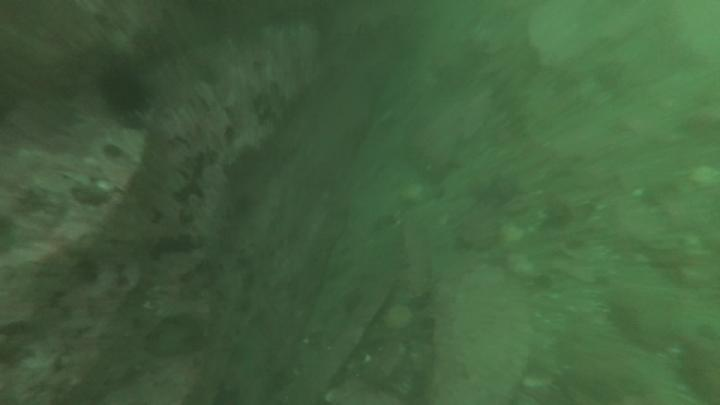echinus: (101, 71, 148, 116)
holothurian: (399, 221, 439, 309)
